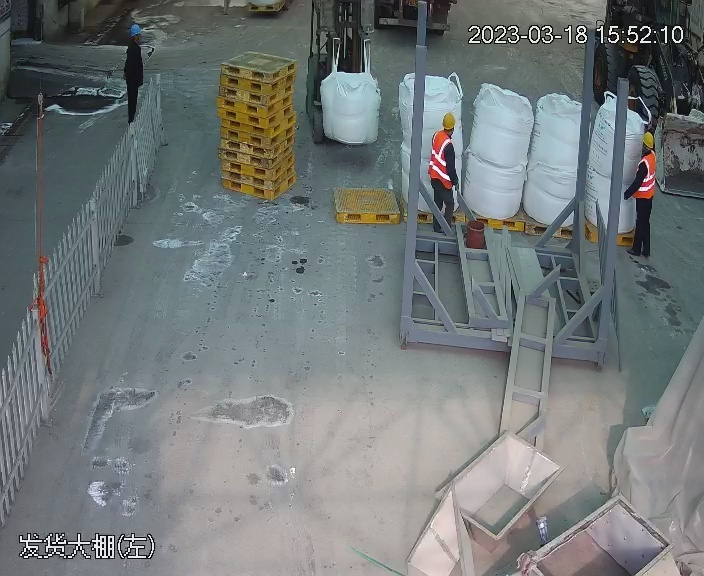head: (431, 110, 457, 152), (634, 129, 655, 172), (125, 22, 144, 56)
helmet: (441, 110, 457, 128), (641, 129, 654, 148), (129, 22, 143, 36)
people: (625, 126, 656, 255), (427, 108, 461, 224), (120, 21, 148, 125)
